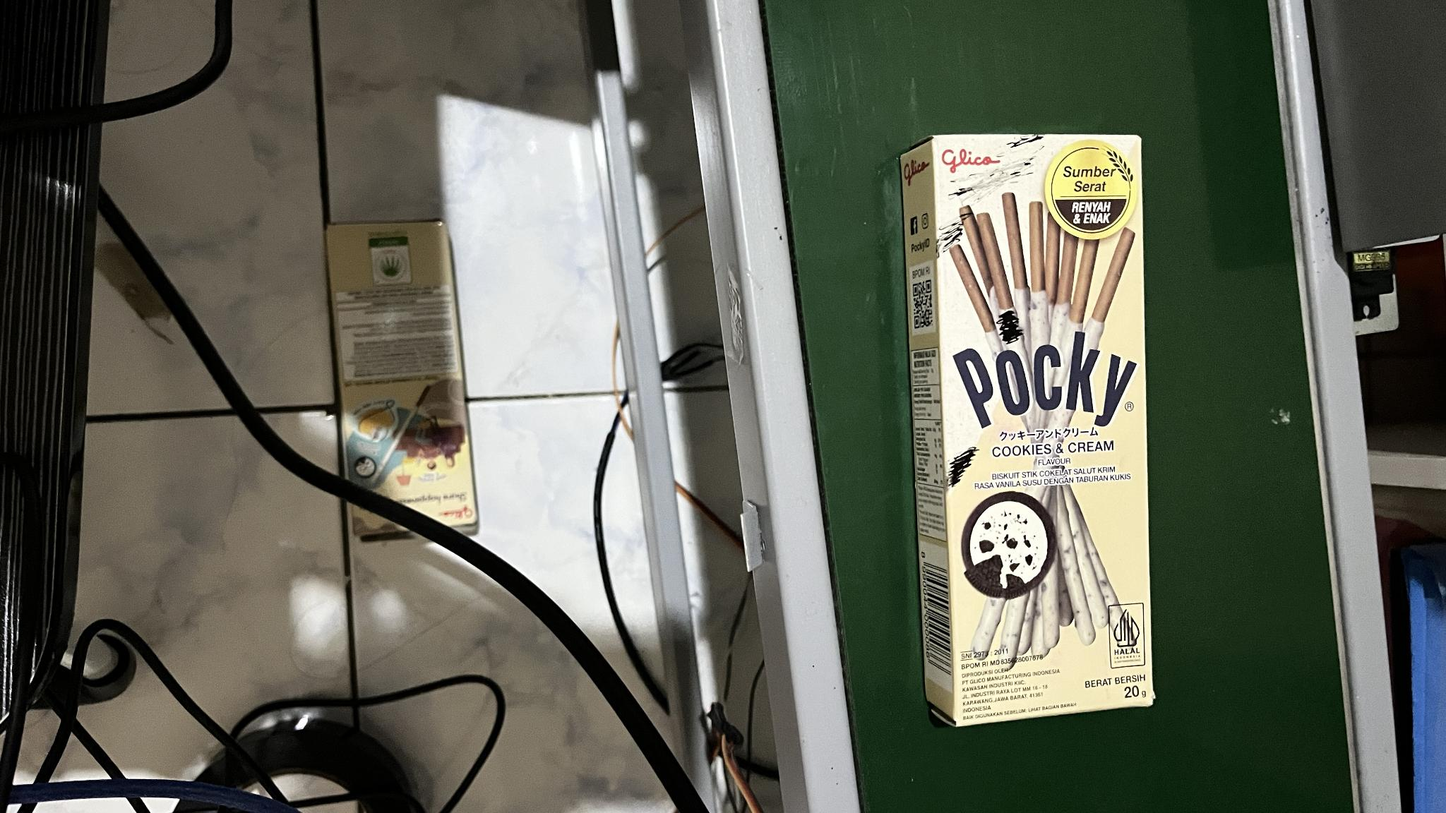Kertas: (932, 133, 1162, 729)
